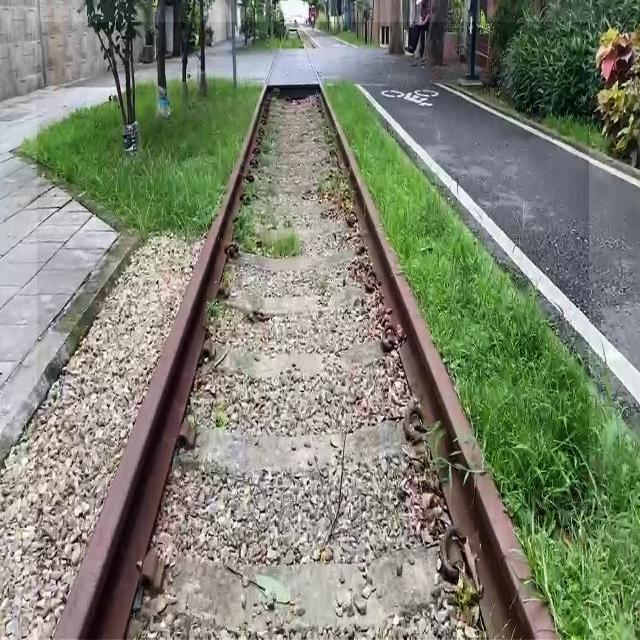rail: (39, 24, 590, 640)
